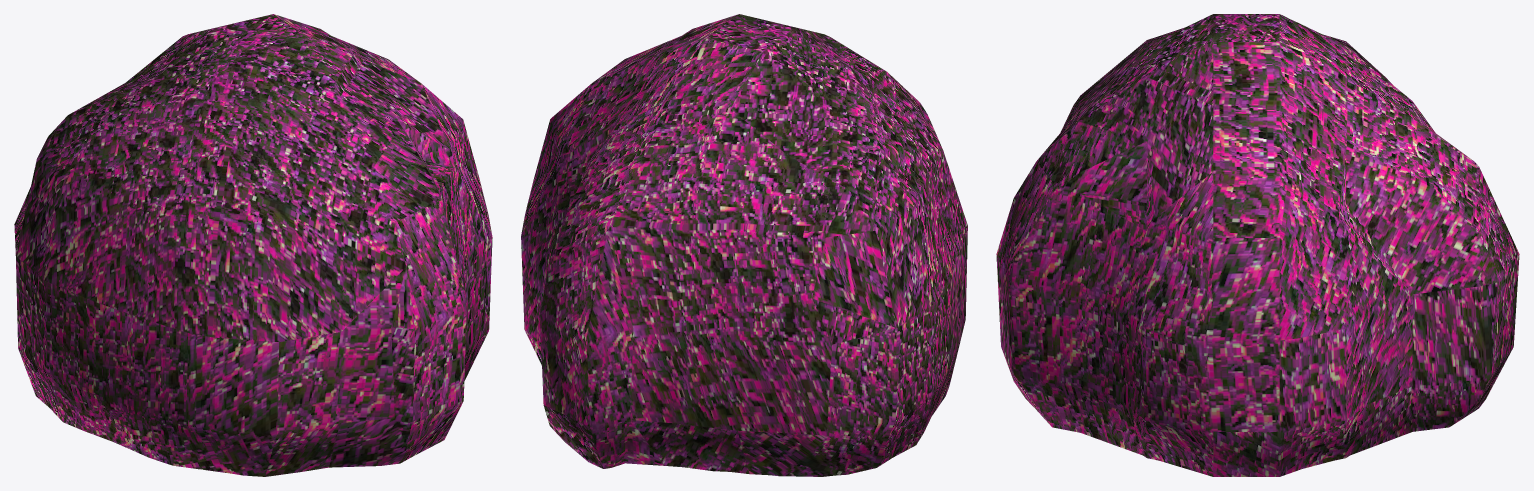
The model's file is krzak.fbx.
3 views of the same model, side by side, from view 1: azimuth 30°, elevation 25°; view 2: azimuth 150°, elevation 25°; view 3: azimuth 270°, elevation 25° (orthographic).
Parts seen in each view (by area): view 1: Drzewo; view 2: Drzewo; view 3: Drzewo.
Part boxes in pixels (<box>): Drzewo: <box>14,14,492,476</box>; Drzewo: <box>521,14,967,476</box>; Drzewo: <box>996,14,1519,476</box>.
Size of the model in its own units: 183 by 154 by 205.
